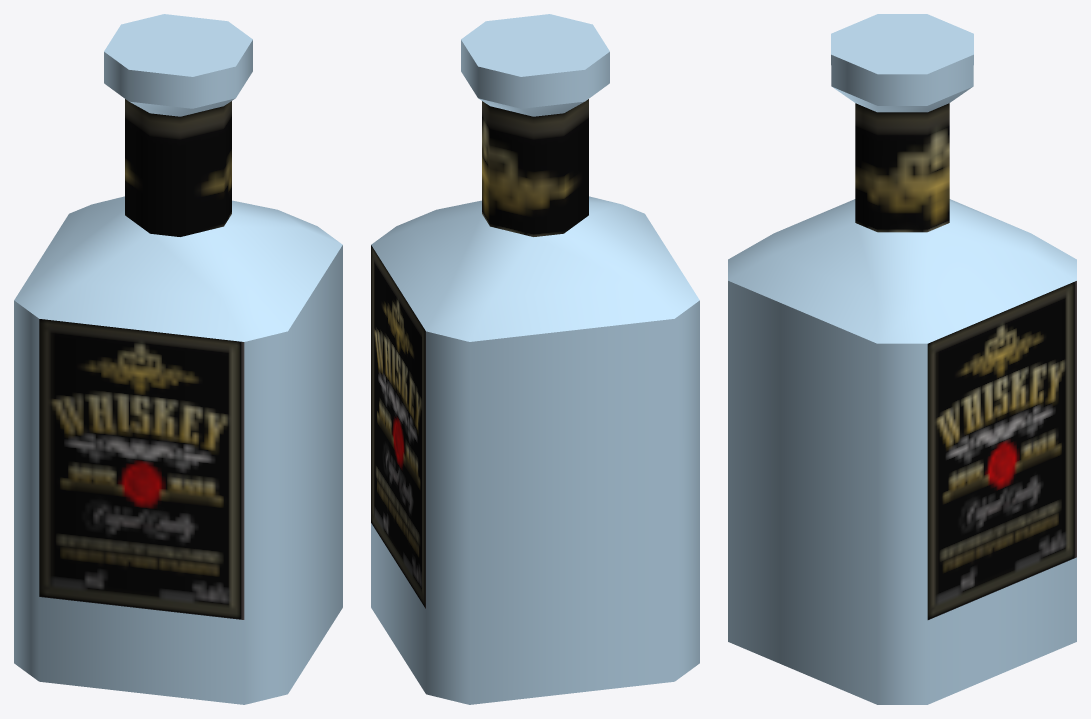
The model's file is Whiskey.fbx.
3 renders of one model, left to right at view 1: azimuth 30°, elevation 25°; view 2: azimuth 150°, elevation 25°; view 3: azimuth 270°, elevation 25°, orthographic.
Visible parts, largest first — view 1: Whiskey; view 2: Whiskey; view 3: Whiskey.
Boxes of the visible parts, x1,y1,x2,y2 form: Whiskey: (14, 14, 342, 704); Whiskey: (371, 14, 699, 704); Whiskey: (728, 14, 1076, 704).
Size of the model in its own units: 18.19 by 33.77 by 18.19.
